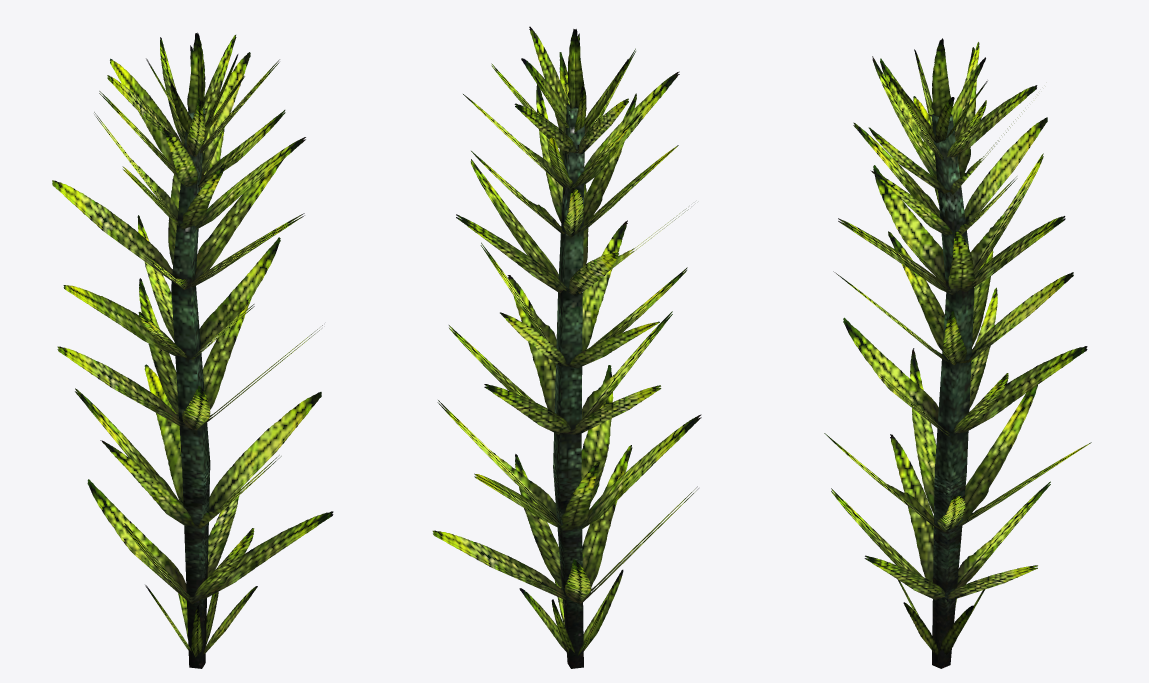
The model's file is straw_small_anacharis01.dae.
3 views of the same model, side by side, from view 1: azimuth 30°, elevation 25°; view 2: azimuth 150°, elevation 25°; view 3: azimuth 270°, elevation 25° (orthographic).
Visible parts, largest first — view 1: anacharis01; view 2: anacharis01; view 3: anacharis01.
Boxes of the visible parts, bbox=[...] form: anacharis01: bbox=[52, 32, 333, 668]; anacharis01: bbox=[432, 26, 701, 668]; anacharis01: bbox=[824, 38, 1091, 668].
Bounding box in the file's own units: 0.1537 × 0.294 × 0.1536.
